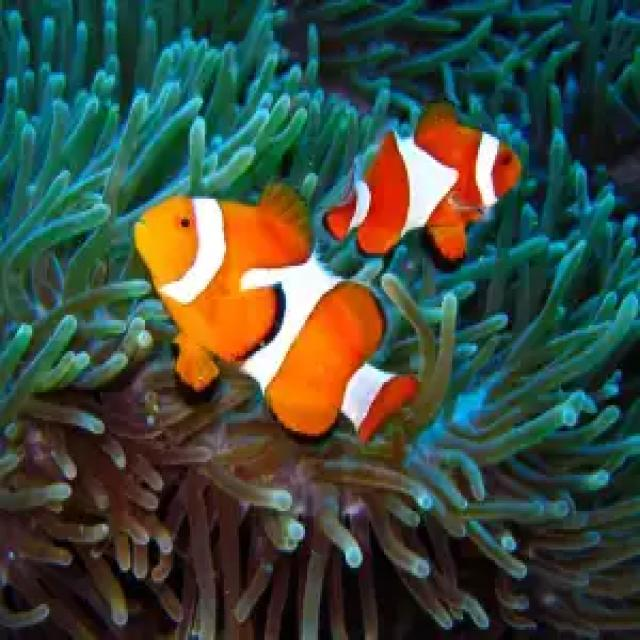ClownFish: (138, 188, 423, 450), (324, 97, 520, 254)
